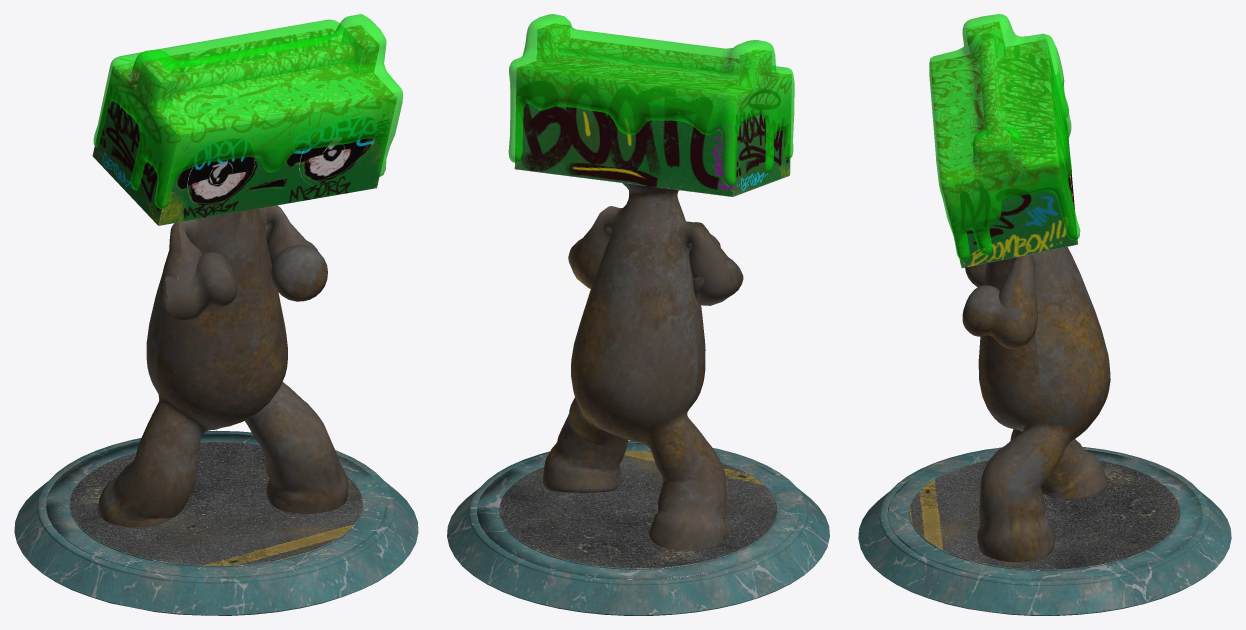
3 renders of one model, left to right at view 1: azimuth 30°, elevation 25°; view 2: azimuth 150°, elevation 25°; view 3: azimuth 270°, elevation 25°, orthographic. The views are drawn at different scales.
Parts seen in each view (by area): view 1: BBody; view 2: BBody; view 3: BBody.
Part boxes in pixels (x1,y1,x2,y2): BBody: [14, 14, 418, 615]; BBody: [447, 14, 829, 615]; BBody: [858, 14, 1231, 615].
Size of the model in its own units: 1.45 by 2.06 by 1.45.
Materials: 5 (4 with a texture image).
